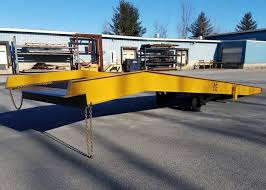Yard Ramp: (6, 68, 264, 107)
